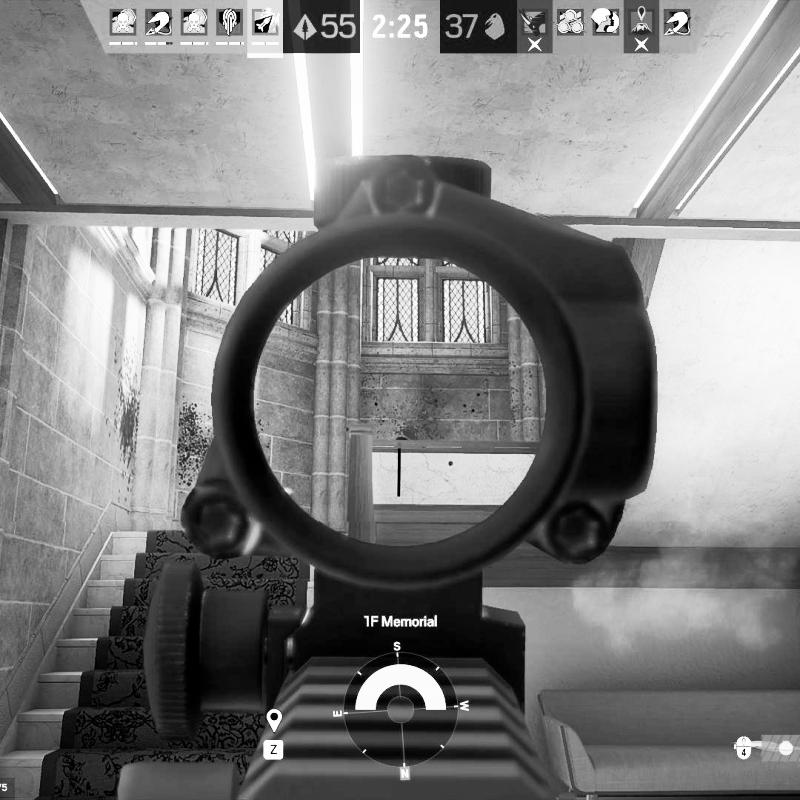Character: (390, 433, 413, 444)
Head: (395, 435, 409, 442)
